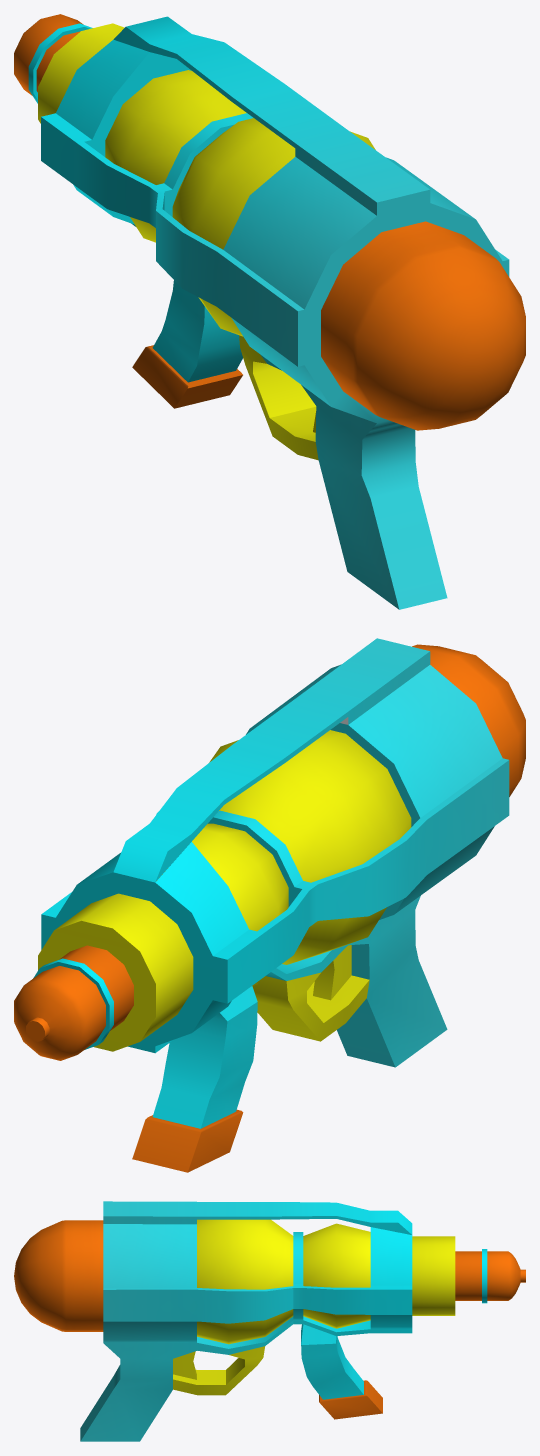
The model's file is spaceGun.fbx.
The picture shows the model from 3 angles, top to bottom: view 1: azimuth 30°, elevation 25°; view 2: azimuth 150°, elevation 25°; view 3: azimuth 270°, elevation 25°; orthographic projection. The views are drawn at different scales.
Parts seen in each view (by area): view 1: RG_WG; view 2: RG_WG; view 3: RG_WG.
Boxes of the visible parts, <box> form: RG_WG: <box>14,14,525,609</box>; RG_WG: <box>14,638,525,1172</box>; RG_WG: <box>14,1201,525,1441</box>.
Bounding box in the file's own units: 1.89 × 3.17 × 6.51.
1 material, 1 textured.
